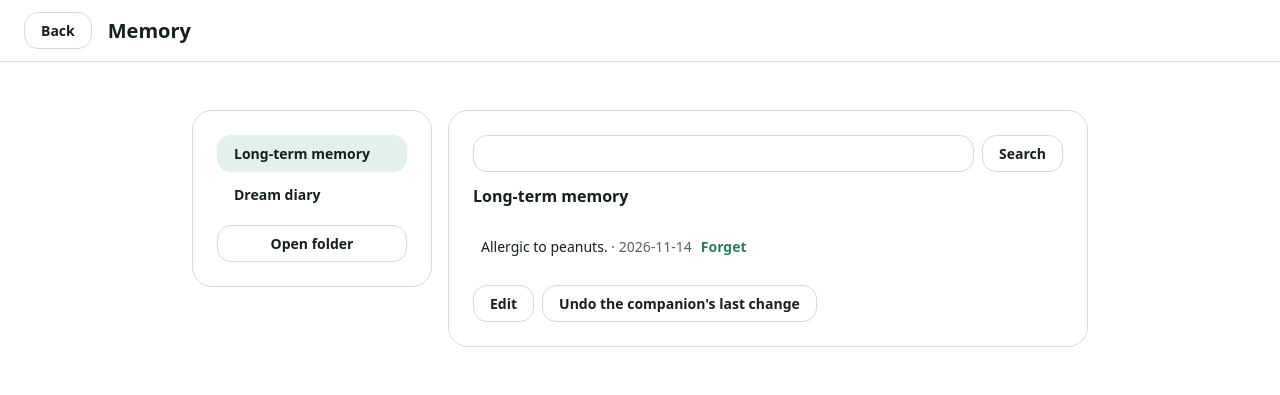
Test: MemoryView forget › lists the dream diary and opens it as text
The image size is (1280, 395).
Click the button "Dream diary" at x=312, y=194, box [217,176,407,213]
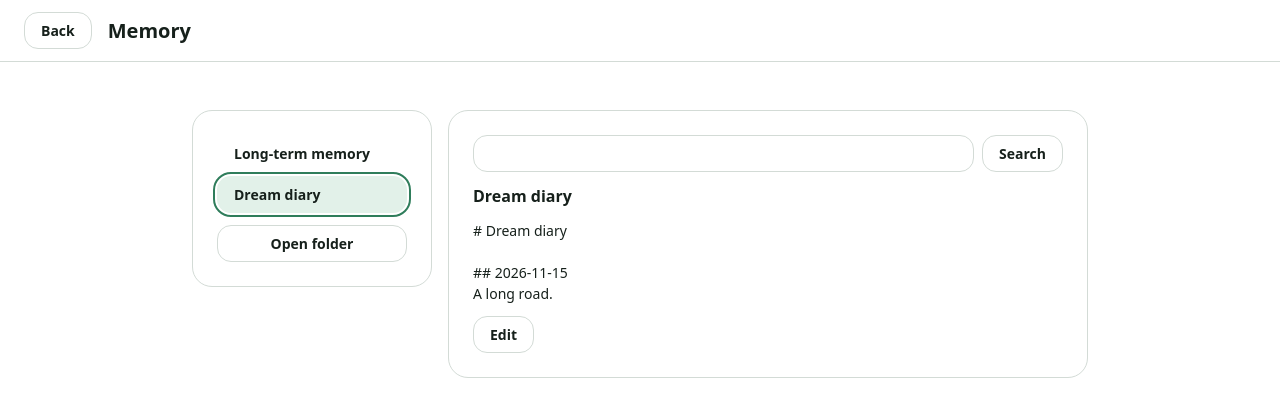
Check: the text "# Dream diary ## 2026-11-15 A long road." is shown, box [473,221,568,303]
Check: the button "Forget" is gone
